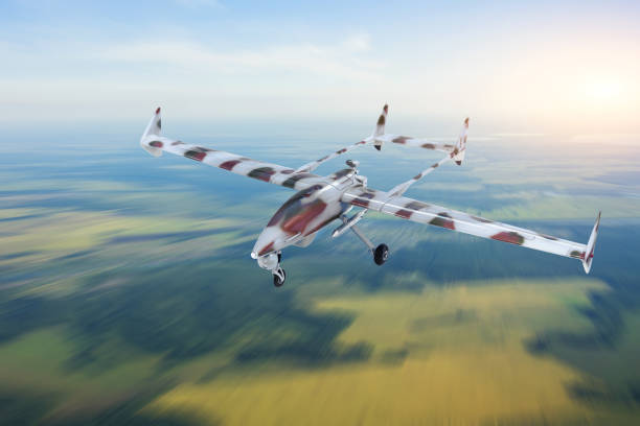military drone: (139, 103, 602, 287)
